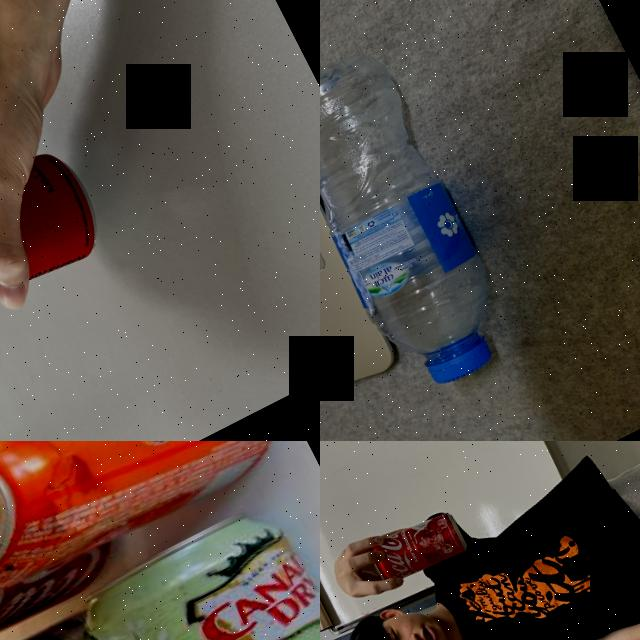bottle: (320, 31, 541, 414)
can: (0, 441, 306, 640), (62, 484, 320, 640), (0, 441, 160, 640), (0, 103, 114, 358), (0, 441, 120, 609), (363, 504, 471, 592)
